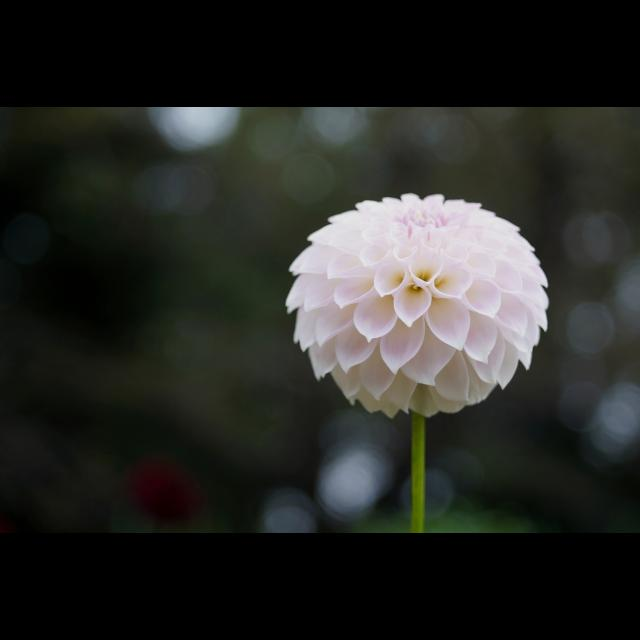Flower: (259, 170, 563, 480)
